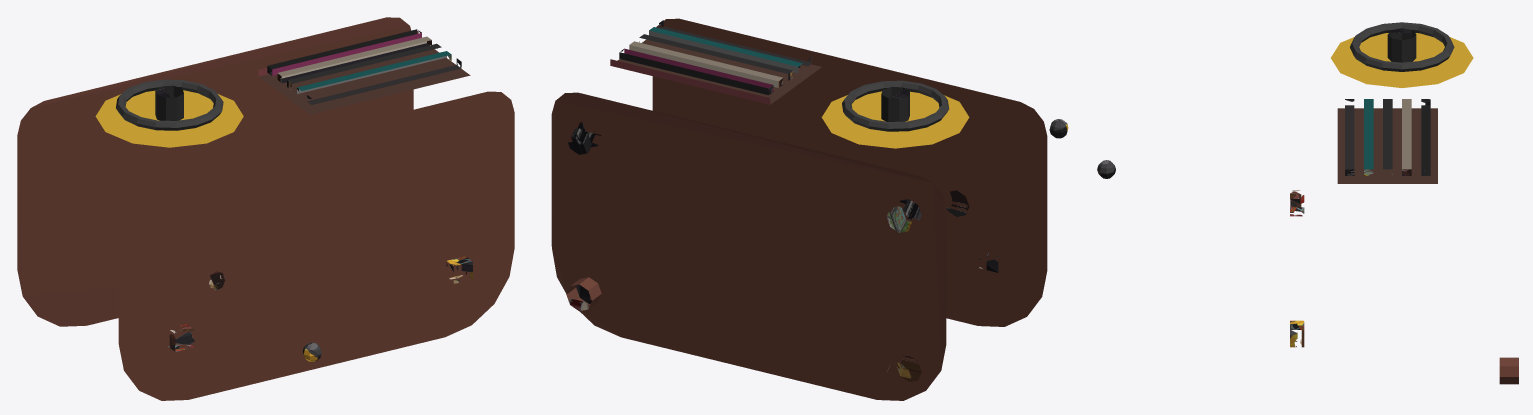
3 renders of one model, left to right at view 1: azimuth 30°, elevation 25°; view 2: azimuth 150°, elevation 25°; view 3: azimuth 270°, elevation 25°, orthographic. The views are drawn at different scales.
Bounding box in the file's own units: 0.376 × 0.235 × 0.354.
